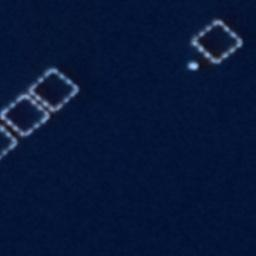square_solid: (23, 59, 84, 114), (188, 14, 247, 67), (1, 88, 55, 142)
